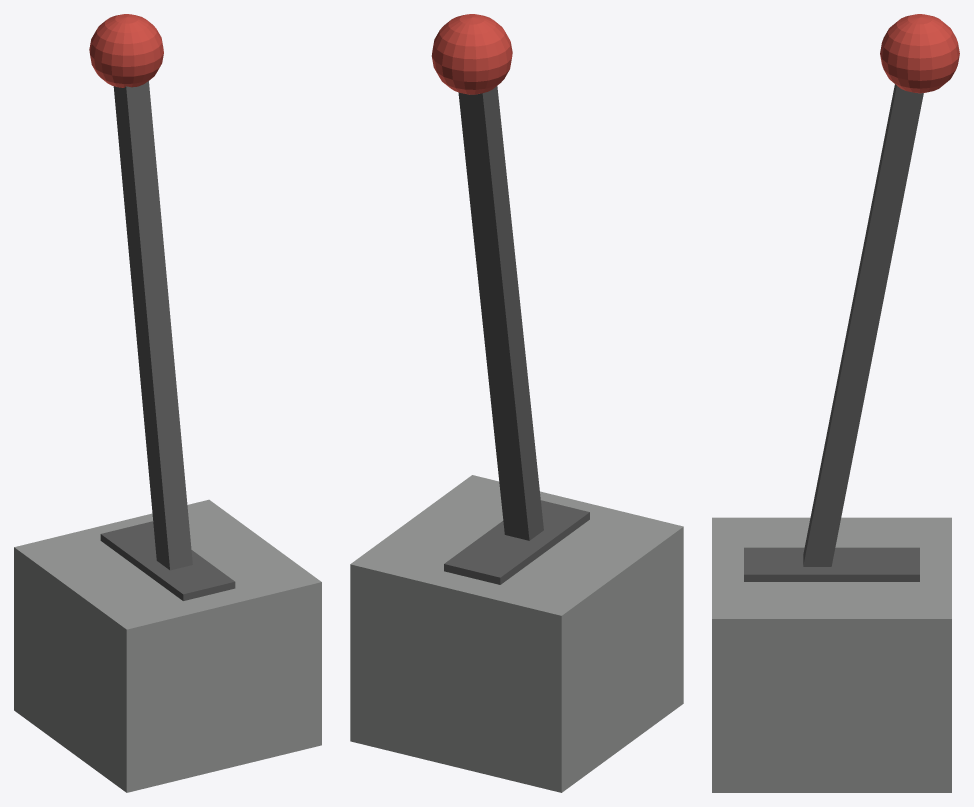
The model's file is dm_lever.glb.
3 views of the same model, side by side, from view 1: azimuth 30°, elevation 25°; view 2: azimuth 150°, elevation 25°; view 3: azimuth 270°, elevation 25° (orthographic). The views are drawn at different scales.
Parts seen in each view (by area): view 1: dm_lever; view 2: dm_lever; view 3: dm_lever.
Boxes of the visible parts, x1,y1,x2,y2 form: dm_lever: (14,14,321,792); dm_lever: (350,14,683,792); dm_lever: (712,14,959,792).
Size of the model in its own units: 0.3 by 1 by 0.31.
